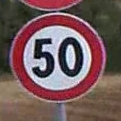limite 50: (9, 13, 108, 102)
